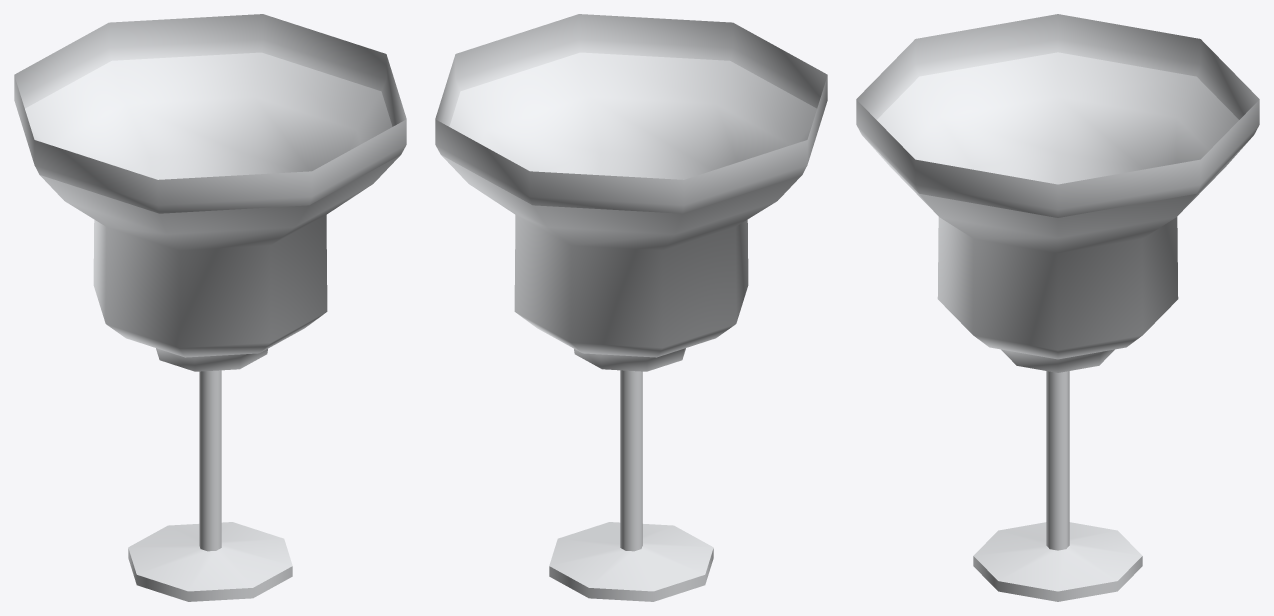
The model's file is scene_pTZ0O4QxuM.glb.
3 renders of one model, left to right at view 1: azimuth 30°, elevation 25°; view 2: azimuth 150°, elevation 25°; view 3: azimuth 270°, elevation 25°, orthographic.
Visible parts, largest first — view 1: sercups_margarita_glass_Cylinder.112; view 2: sercups_margarita_glass_Cylinder.112; view 3: sercups_margarita_glass_Cylinder.112.
Boxes of the visible parts, left/top/right/bottom form: sercups_margarita_glass_Cylinder.112: left=14, top=14, right=406, bottom=601; sercups_margarita_glass_Cylinder.112: left=435, top=14, right=827, bottom=601; sercups_margarita_glass_Cylinder.112: left=856, top=14, right=1259, bottom=601.
Bounding box in the file's own units: 3.02 × 3.85 × 3.02.
1 material, 1 textured.
